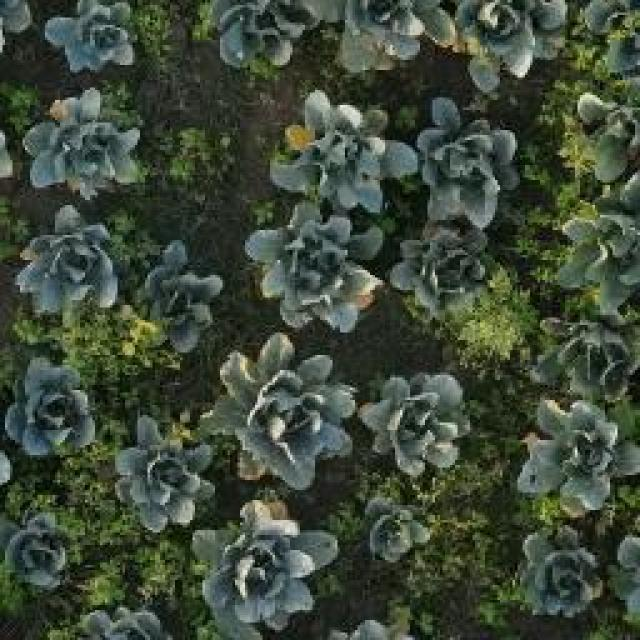cabbage: (192, 502, 338, 634), (215, 349, 356, 484), (244, 206, 384, 332), (270, 89, 416, 207), (520, 395, 639, 506), (9, 207, 122, 322), (412, 101, 522, 218), (25, 90, 142, 197), (128, 240, 225, 357), (114, 416, 216, 527), (360, 371, 466, 475), (392, 223, 498, 315), (321, 0, 451, 73), (452, 0, 559, 82), (6, 358, 100, 451), (536, 304, 640, 384), (566, 95, 640, 198), (510, 532, 602, 614), (559, 209, 640, 302), (44, 0, 142, 76), (214, 0, 318, 66), (0, 510, 78, 596), (362, 493, 431, 559)
